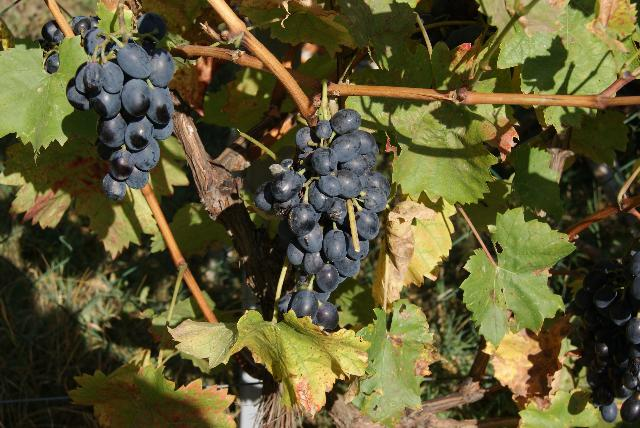grapes: (255, 109, 390, 331), (66, 27, 175, 201), (570, 250, 640, 424)
